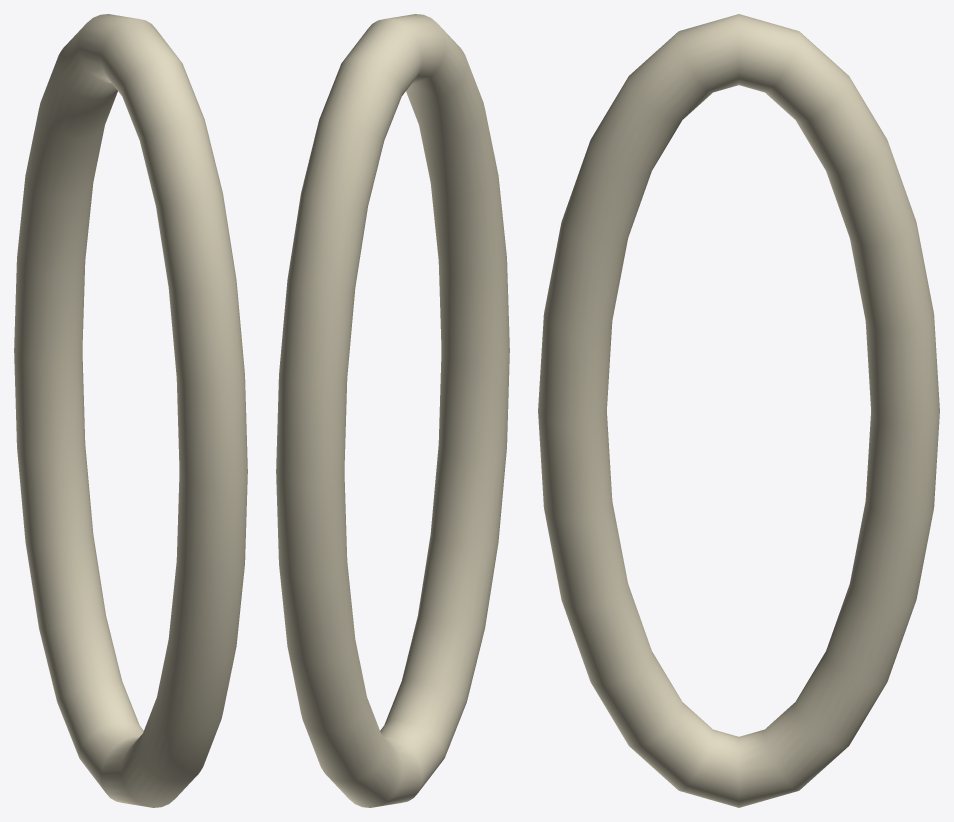
File: original-5.obj
The picture shows the model from 3 angles, left to right: view 1: azimuth 30°, elevation 25°; view 2: azimuth 150°, elevation 25°; view 3: azimuth 270°, elevation 25°; orthographic projection.
Visible parts, largest first — view 1: Group6/mesh2/mesh2-geometry#mesh2-geometry; view 2: Group6/mesh2/mesh2-geometry#mesh2-geometry; view 3: Group6/mesh2/mesh2-geometry#mesh2-geometry.
Boxes of the visible parts, x1,y1,x2,y2 form: Group6/mesh2/mesh2-geometry#mesh2-geometry: (14, 14, 247, 807); Group6/mesh2/mesh2-geometry#mesh2-geometry: (276, 14, 509, 807); Group6/mesh2/mesh2-geometry#mesh2-geometry: (538, 14, 939, 807).
Bounding box in the file's own units: 0.0172 × 0.2175 × 0.1006.
